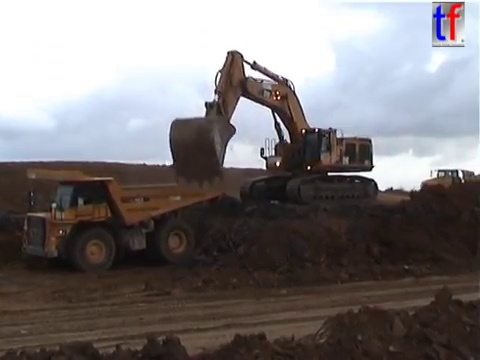excavator: (164, 48, 381, 211)
truck: (15, 166, 222, 273), (418, 167, 480, 199)
